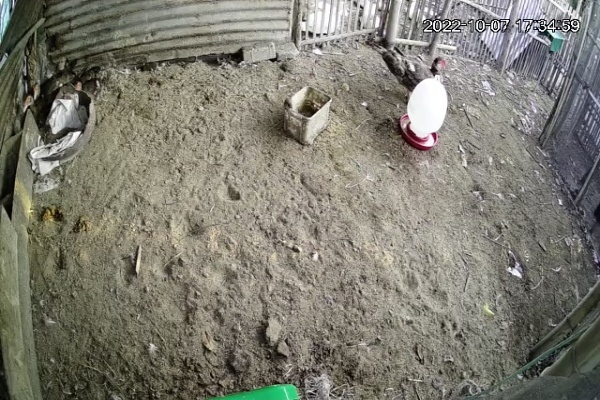Entog: (369, 33, 455, 100)
